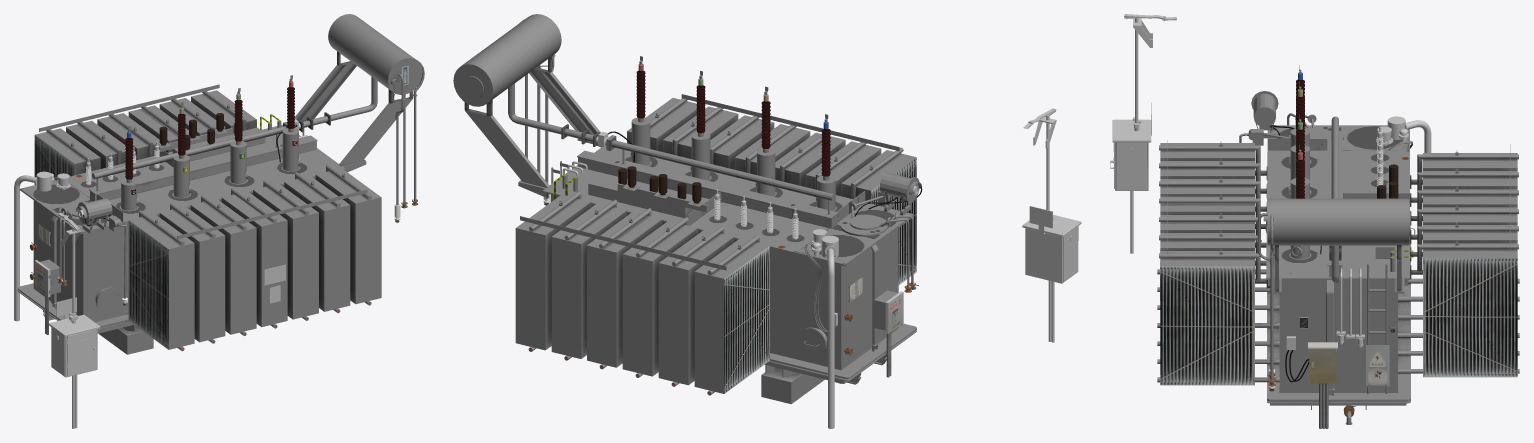
Rendered from zb_a_separate.FBX.
3 renders of one model, left to right at view 1: azimuth 30°, elevation 25°; view 2: azimuth 150°, elevation 25°; view 3: azimuth 270°, elevation 25°, orthographic. The views are drawn at different scales.
Visible parts, largest first — view 1: 冷却系统1 (×2), youxiang, 对象015, btyg, luodidaozhaxiang, 对象009, 对象016, buchongshebei01, 对象008, 对象013, polySurface455, polySurface468 (+7 smaller); view 2: 冷却系统1 (×2), youxiang, 对象015, btyg, luodidaozhaxiang, 对象009, 对象016, 对象013, buchongshebei01, 对象031, polySurface468, polySurface455 (+8 smaller); view 3: 冷却系统1 (×2), youxiang, btyg, luodidaozhaxiang, 对象015, 对象013, 对象017, 对象016, polySurface560, 对象008, 对象006, guanzi (+10 smaller).
Part boxes in pixels (x1,y1,x2,y2): 冷却系统1 (×2): (34,84,381,351); youxiang: (17,124,345,329); 对象015: (89,76,377,201); btyg: (328,14,422,94); luodidaozhaxiang: (48,213,100,428); 对象009: (294,51,413,172); 对象016: (154,113,265,167); buchongshebei01: (14,171,51,321); 对象008: (390,60,424,205); 对象013: (57,194,126,298); polySurface455: (281,75,300,171); polySurface468: (229,88,247,184); 冷却系统1 (×2): (515,94,916,395); youxiang: (542,146,916,381); 对象015: (508,83,838,228); btyg: (453,14,561,106); luodidaozhaxiang: (1022,108,1081,342); 对象009: (464,56,601,199); 对象016: (588,166,721,225); 对象013: (836,190,918,292); buchongshebei01: (821,235,838,428); 对象031: (761,368,824,404); polySurface468: (690,70,711,180); polySurface455: (630,56,651,166); 冷却系统1 (×2): (1157,140,1519,385); youxiang: (1266,125,1410,403); btyg: (1267,198,1410,245); luodidaozhaxiang: (1110,14,1176,253); 对象015: (1320,116,1342,282); 对象013: (1239,113,1343,150); 对象017: (1308,342,1337,383); 对象016: (1343,164,1409,258); polySurface560: (1366,345,1389,386); 对象008: (1256,213,1274,380); 对象006: (1251,91,1278,127); guanzi: (1336,268,1364,339).
Size of the model in its own units: 430 by 224 by 302.
